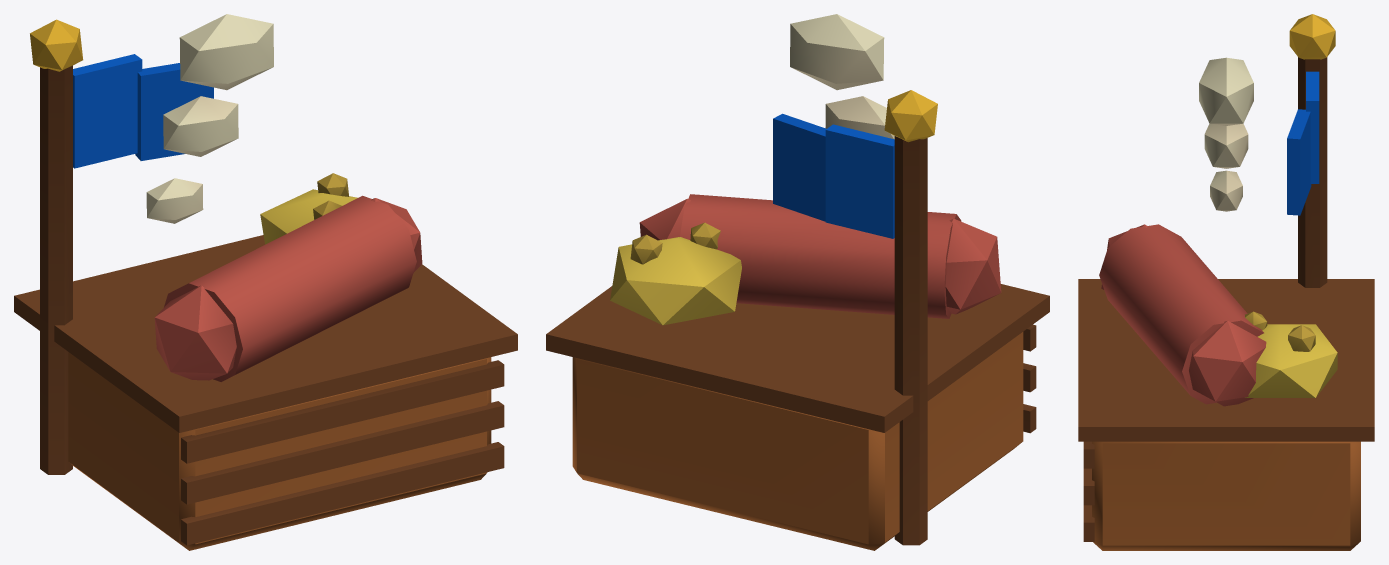
File: b_koeder.glb
3 views of the same model, side by side, from view 1: azimuth 30°, elevation 25°; view 2: azimuth 150°, elevation 25°; view 3: azimuth 270°, elevation 25° (orthographic). The views are drawn at different scales.
Visible parts, largest first — view 1: body, sway_flag; view 2: body, sway_flag; view 3: body, sway_flag.
Part boxes in pixels (x1,y1,x2,y2): body: (14,14,517,550); sway_flag: (73,54,213,168); body: (546,14,1049,550); sway_flag: (773,113,894,238); body: (1078,14,1374,550); sway_flag: (1287,71,1319,215).
Bounding box in the file's own units: 1.36 × 1.69 × 1.1.
